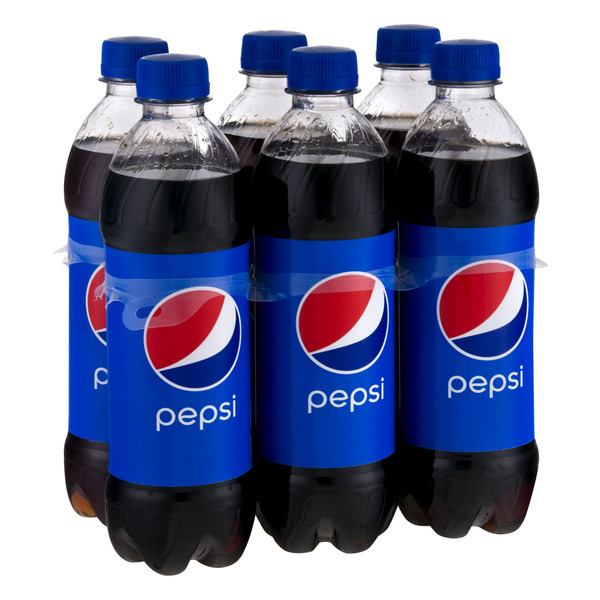pepsi: (141, 288, 240, 392), (296, 267, 387, 373), (436, 256, 528, 358)
